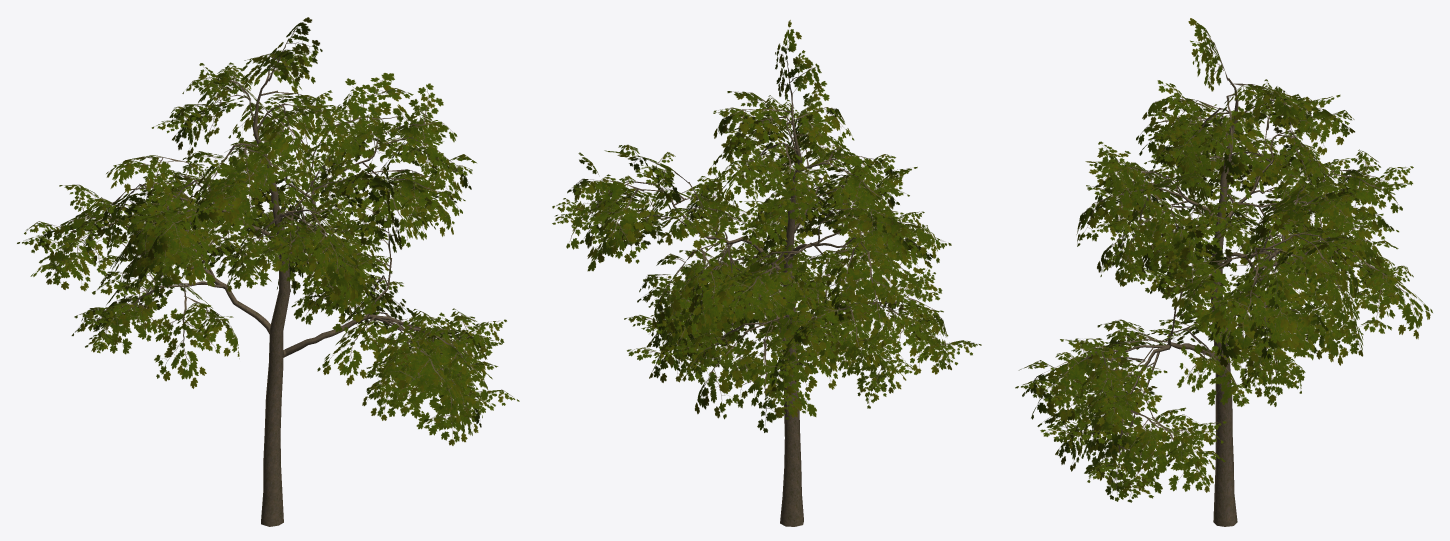
The model's file is maple_acer_medium_3_lod0.gltf.
3 views of the same model, side by side, from view 1: azimuth 30°, elevation 25°; view 2: azimuth 150°, elevation 25°; view 3: azimuth 270°, elevation 25° (orthographic). The views are drawn at different scales.
Visible parts, largest first — view 1: Acer_medium_3_LOD0_Cluster_Mat_0, Acer_medium_3_LOD0_Bark_Mat_0; view 2: Acer_medium_3_LOD0_Cluster_Mat_0, Acer_medium_3_LOD0_Bark_Mat_0; view 3: Acer_medium_3_LOD0_Cluster_Mat_0, Acer_medium_3_LOD0_Bark_Mat_0.
Boxes of the visible parts, <box> form: Acer_medium_3_LOD0_Cluster_Mat_0: <box>17,17,519,445</box>; Acer_medium_3_LOD0_Bark_Mat_0: <box>104,78,455,526</box>; Acer_medium_3_LOD0_Cluster_Mat_0: <box>552,20,981,432</box>; Acer_medium_3_LOD0_Bark_Mat_0: <box>628,105,896,526</box>; Acer_medium_3_LOD0_Cluster_Mat_0: <box>1015,18,1432,502</box>; Acer_medium_3_LOD0_Bark_Mat_0: <box>1095,78,1359,526</box>.
Bounding box in the file's own units: 8.76 × 10.29 × 7.63.
Materials: 2 (2 with a texture image).
